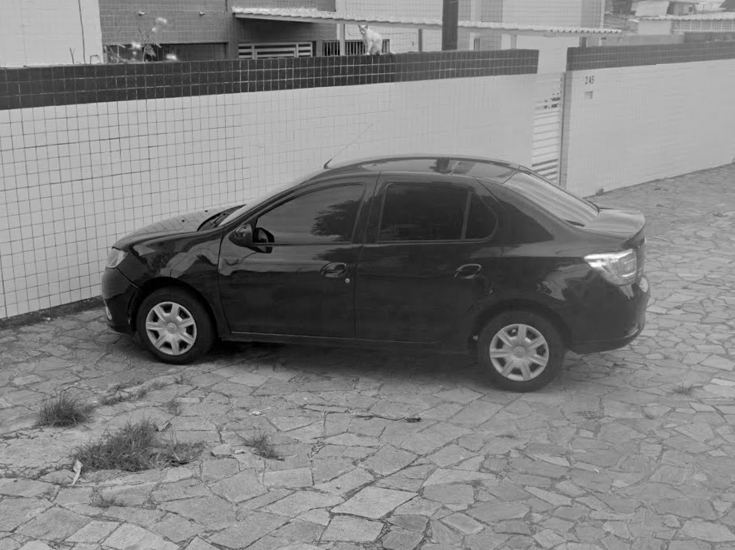car: (94, 123, 651, 393)
